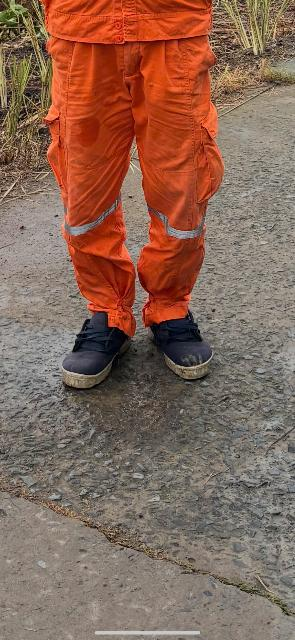shoes: (132, 298, 240, 389), (52, 307, 133, 398)
